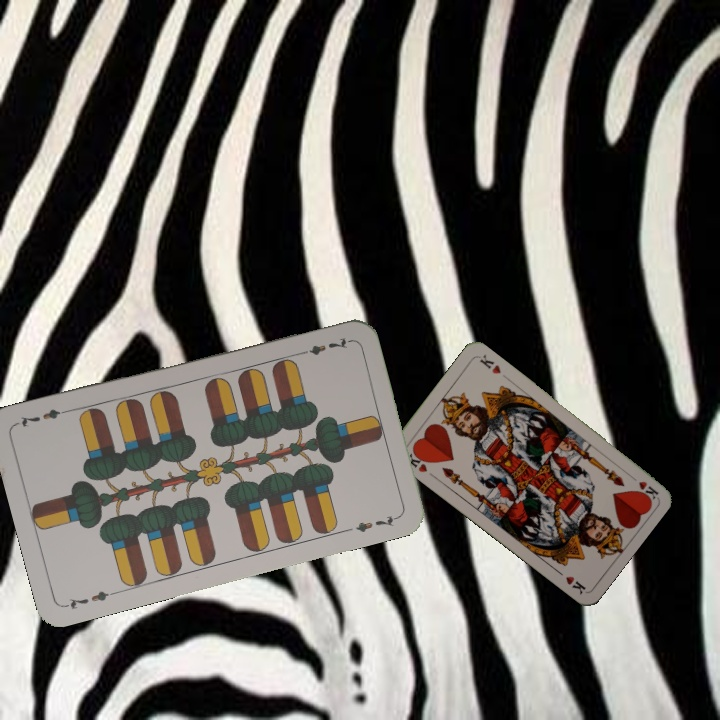E7: (61, 586, 119, 612), (294, 333, 352, 358)
HK: (624, 470, 661, 501), (402, 446, 431, 475)
